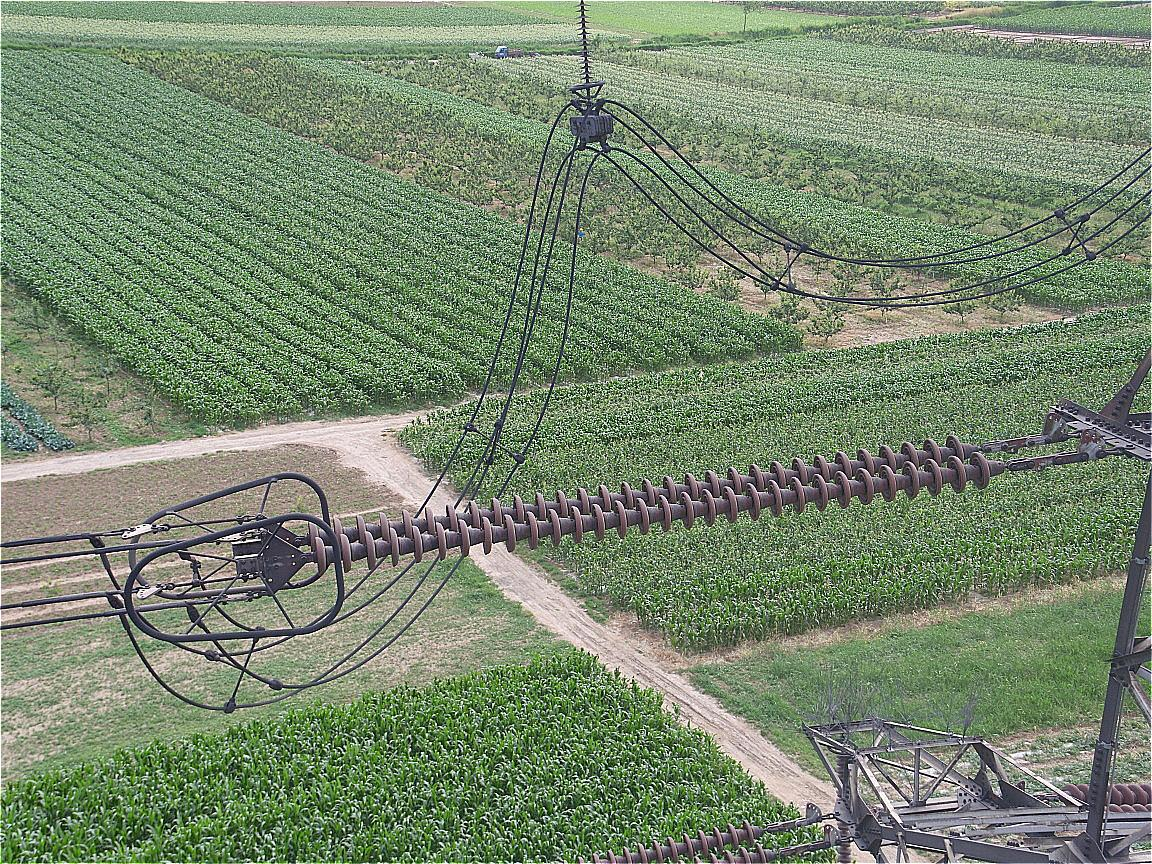insultor1: (304, 435, 991, 572)
